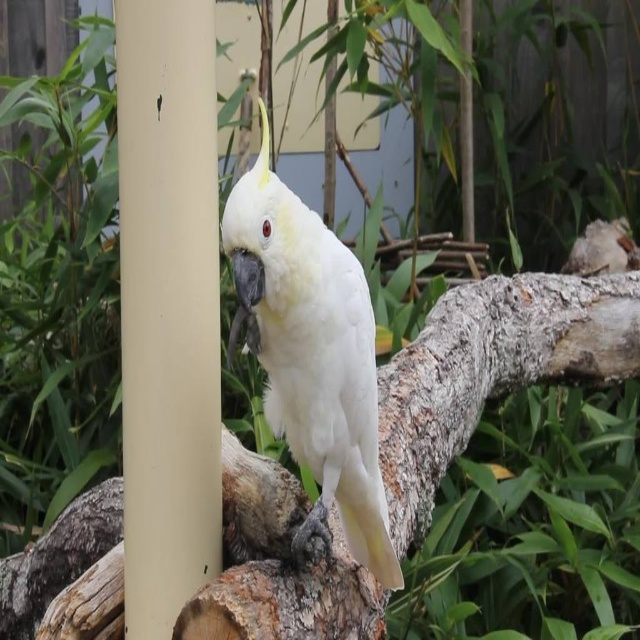Parrot: (223, 90, 406, 591)
